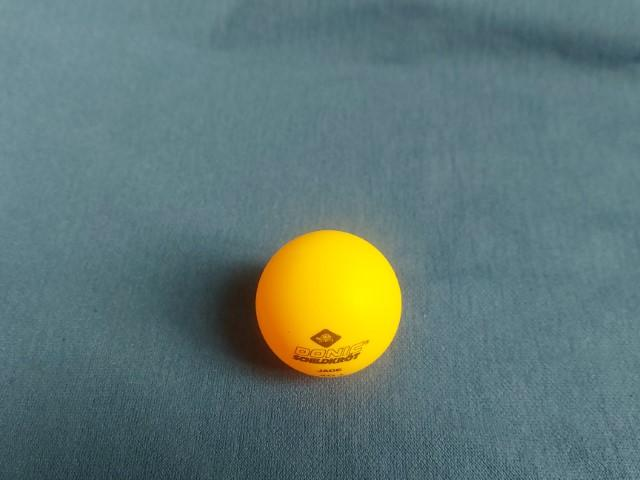oball: (247, 224, 405, 385)
